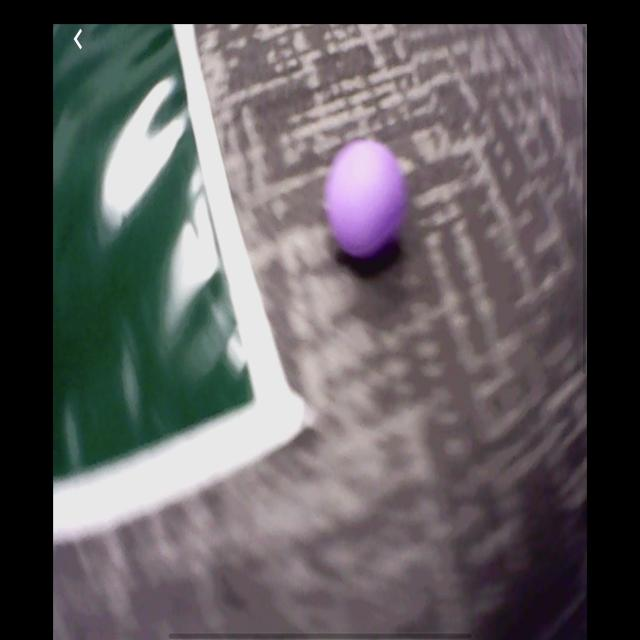ball: (326, 146, 405, 259)
